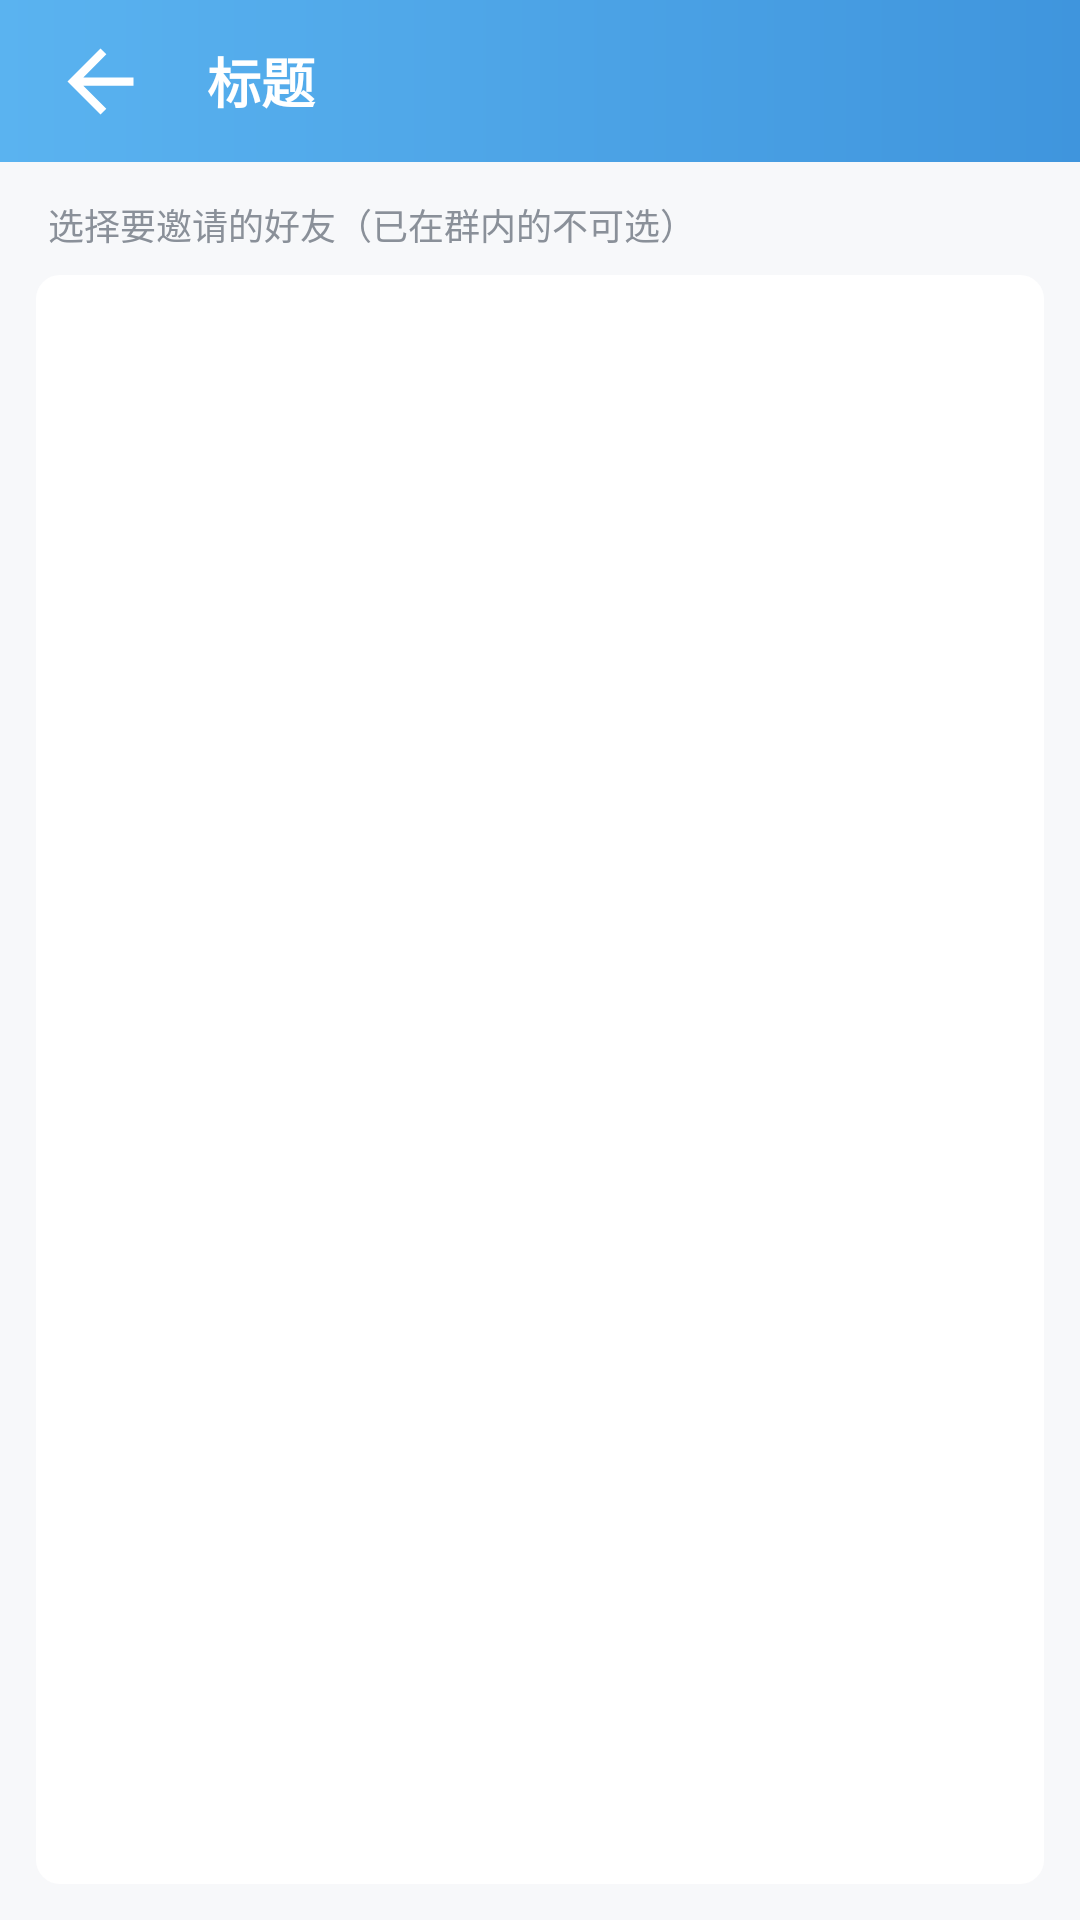

Named icons in this screenshot (1080*1920) and their centers, (x,y):
返回: (100,81)
